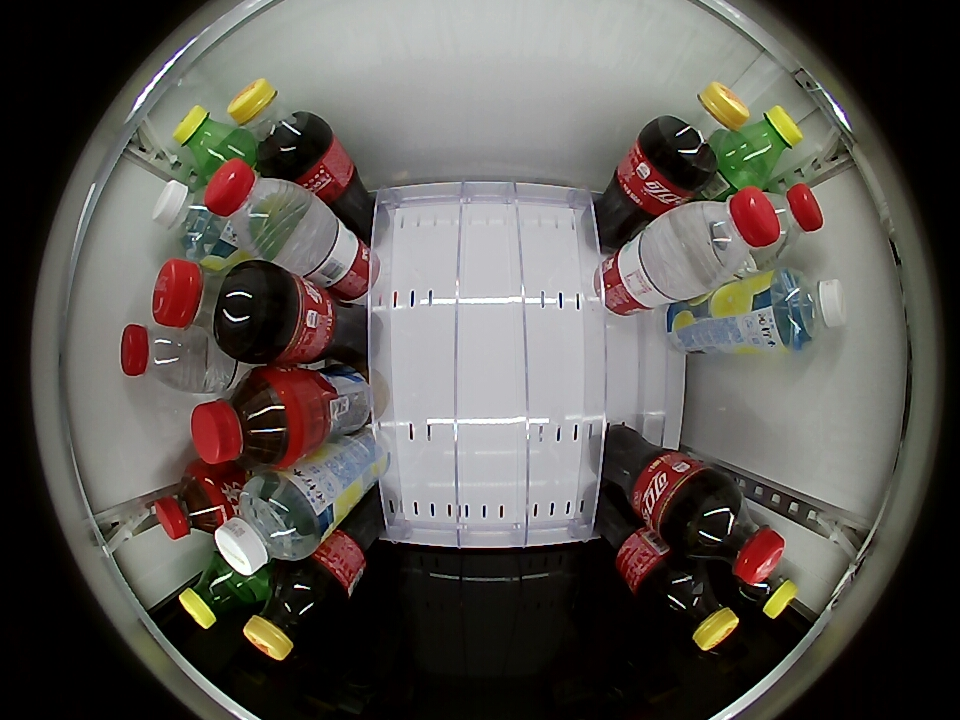baishikele: (734, 565, 798, 620)
binghongcha: (191, 369, 303, 470), (153, 469, 230, 541)
kele-b: (152, 258, 254, 354), (685, 486, 786, 582)
kele-b-2: (655, 81, 750, 176), (244, 566, 338, 661), (228, 78, 321, 168), (649, 564, 741, 651)
nongfushanquan: (666, 186, 781, 289), (203, 158, 309, 256), (120, 322, 203, 392), (757, 182, 824, 259)
qinningshui: (214, 472, 323, 576), (769, 269, 847, 350), (153, 180, 228, 258)
xuebi-b: (180, 554, 256, 629), (730, 105, 802, 180), (173, 105, 246, 177)
